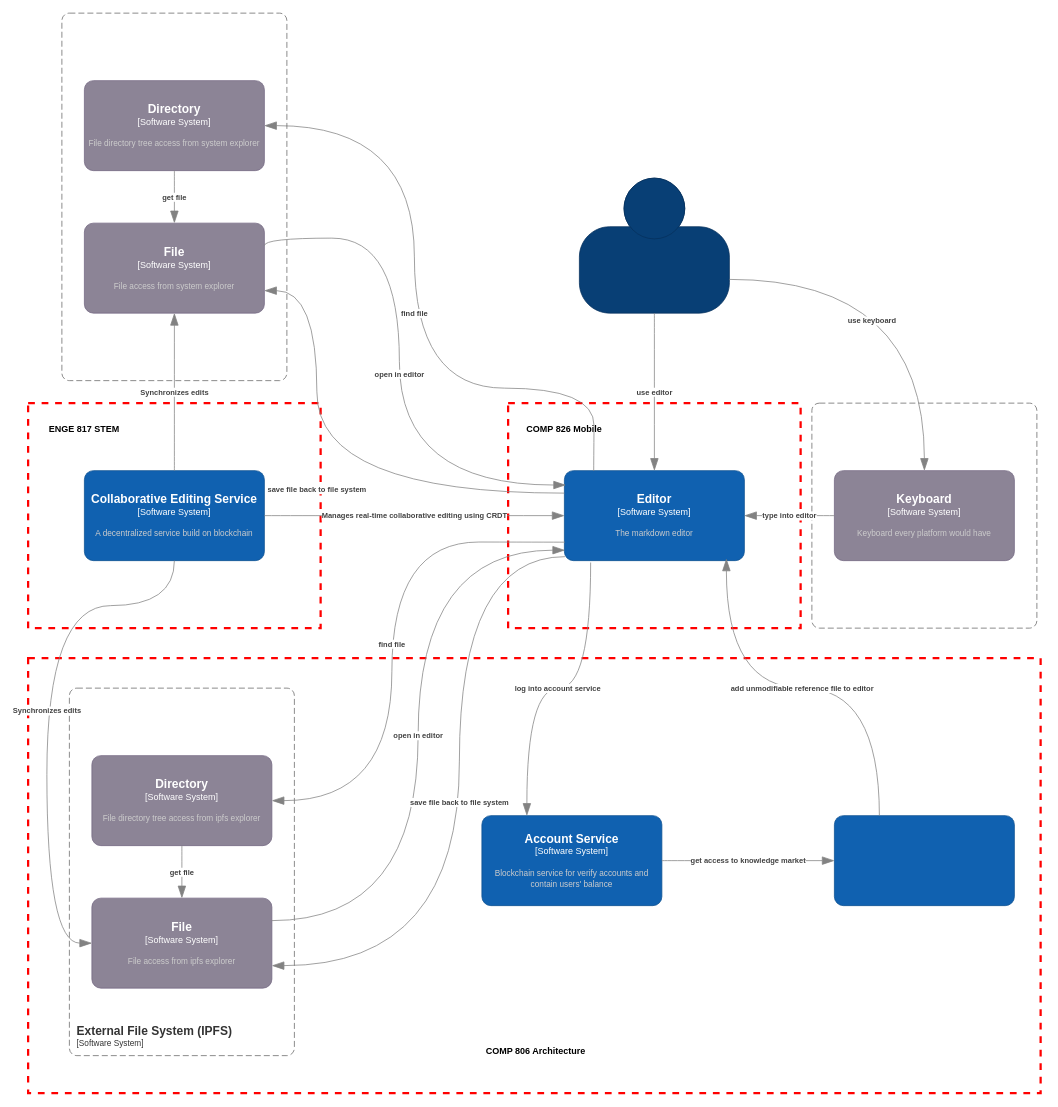
This 1058x1107 diagram has some shape labels left out. The shapes that lost their labels are listed below. From the top down, each one's box as (x1, y1, x2, y2) in pixels, then its label:
(61, 12, 287, 381): File System [Software System]
(579, 177, 729, 313): User [Person] Anyone who's using the editor
(811, 402, 1037, 628): Input System [Software System]
(834, 815, 1014, 906): Knowledge Market [Software System] Market where user can explore others work
